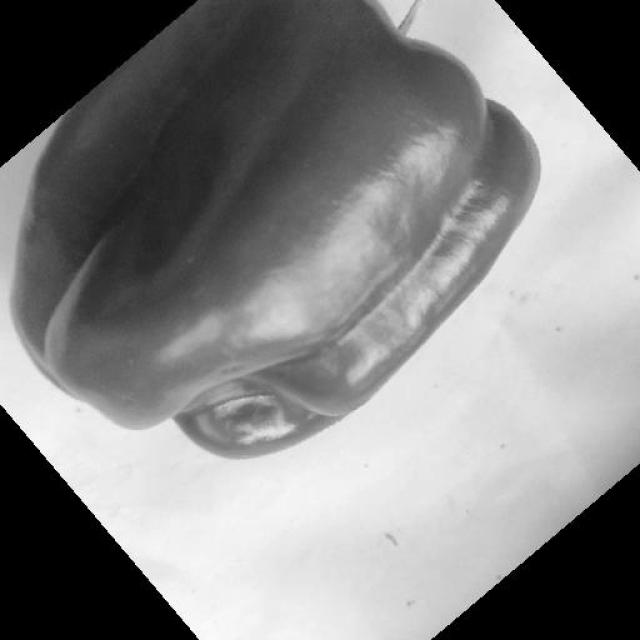Fresh_Capsicum: (74, 8, 474, 388)
